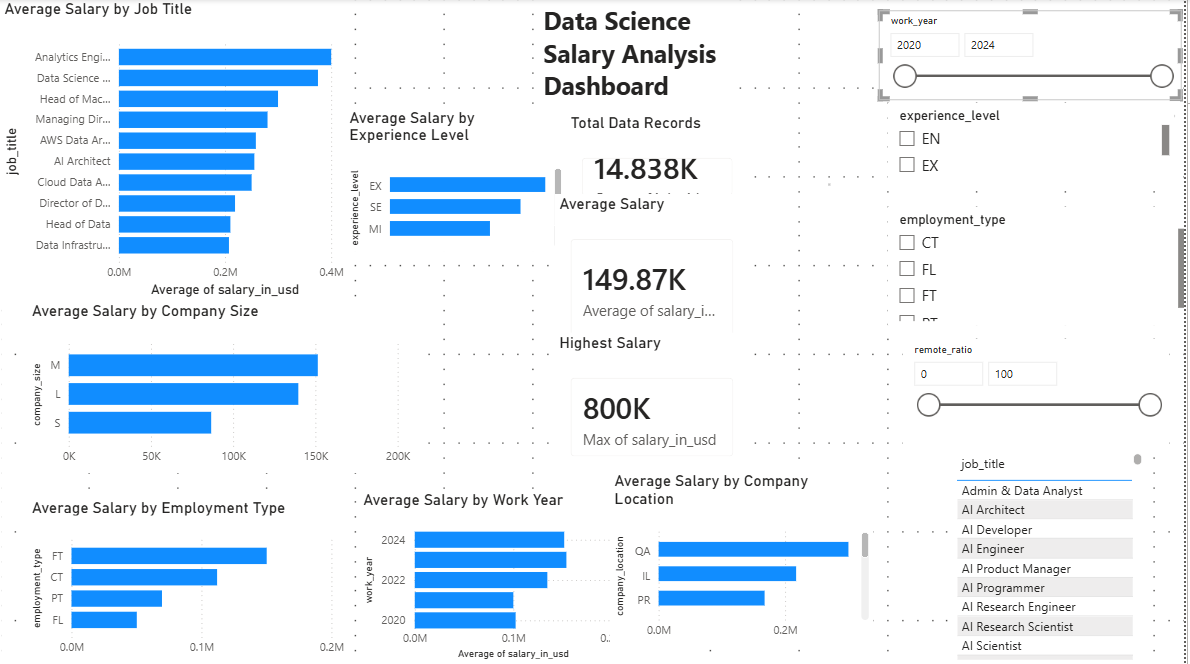

This screenshot's page, from the dashboard's own definition file:
{"tool":"powerbi","page":{"name":"Page 1","canvas":[1280,720],"ordinal":0},"visuals":[{"type":"clusteredBarChart","title":"Average Salary by Job Title","fields":{"Category":["DataScience_salaries_2024.job_title"],"Y":["Avg(DataScience_salaries_2024.salary_in_usd)"]},"box":[0,0,377.5,327.5],"z":0},{"type":"clusteredBarChart","title":"Average Salary by Experience Level","fields":{"Category":["DataScience_salaries_2024.experience_level"],"Y":["Avg(DataScience_salaries_2024.salary_in_usd)"]},"box":[372.5,117,239.4,156],"z":1000},{"type":"clusteredBarChart","title":"Average Salary by Company Size","fields":{"Category":["DataScience_salaries_2024 (2).company_size"],"Y":["Avg(DataScience_salaries_2024 (2).salary_in_usd)"]},"box":[30,327.5,419.6,185.6],"z":2000},{"type":"clusteredBarChart","title":"Average Salary by Work Year","fields":{"Category":["DataScience_salaries_2024 (2).work_year"],"Y":["Avg(DataScience_salaries_2024 (2).salary_in_usd)"]},"box":[388.7,531.2,293.2,188.3],"z":3000},{"type":"clusteredBarChart","title":"Average Salary by Employment Type","fields":{"Category":["DataScience_salaries_2024 (2).employment_type"],"Y":["Avg(DataScience_salaries_2024 (2).salary_in_usd)"]},"box":[30,540,348,180],"z":4000},{"type":"clusteredBarChart","title":"Average Salary by Company Location","fields":{"Category":["DataScience_salaries_2024 (2).company_location"],"Y":["Avg(DataScience_salaries_2024 (2).salary_in_usd)"]},"box":[660.3,511,285.1,189.6],"z":5000},{"type":"cardVisual","title":"Total Data Records","fields":{"Data":["CountNonNull(DataScience_salaries_2024 (2).job_title)"]},"box":[612.5,122.5,197.5,107.5],"z":6000},{"type":"cardVisual","title":"Average Salary","fields":{"Data":["Avg(DataScience_salaries_2024 (2).salary_in_usd)"]},"box":[600,211.2,210,172.5],"z":7000},{"type":"cardVisual","title":"Highest Salary","fields":{"Data":["Max(DataScience_salaries_2024 (2).salary_in_usd)"]},"box":[599.8,360.4,210,151.2],"z":8000},{"type":"textbox","box":[891.2,195,12.5,12.5],"z":9000},{"type":"textbox","box":[582.5,0,207.5,122.5],"z":10000},{"type":"slicer","fields":{"Values":["DataScience_salaries_2024 (2).work_year"]},"box":[950.8,12.1,327.5,97.5],"z":11000},{"type":"slicer","fields":{"Values":["DataScience_salaries_2024 (2).experience_level"]},"box":[960,112,310,91.2],"z":12000},{"type":"slicer","fields":{"Values":["DataScience_salaries_2024 (2).employment_type"]},"box":[960,224,327.5,128.8],"z":13000},{"type":"slicer","fields":{"Values":["DataScience_salaries_2024 (2).remote_ratio"]},"box":[976,368,289.1,113],"z":14000},{"type":"tableEx","fields":{"Values":["DataScience_salaries_2024 (2).job_title"]},"box":[1028.8,486.8,211.1,232.7],"z":15000}]}

Visuals, with their boxes in screenshot pixels (x1, y1, x2, y2), scaled from the page's 1280x720 canvas onto the 1190x664 screenshot:
"Average Salary by Job Title" clusteredBarChart: [x1=0, y1=0, x2=351, y2=302]
"Average Salary by Experience Level" clusteredBarChart: [x1=346, y1=108, x2=569, y2=252]
"Average Salary by Company Size" clusteredBarChart: [x1=28, y1=302, x2=418, y2=473]
"Average Salary by Work Year" clusteredBarChart: [x1=361, y1=490, x2=634, y2=663]
"Average Salary by Employment Type" clusteredBarChart: [x1=28, y1=498, x2=351, y2=663]
"Average Salary by Company Location" clusteredBarChart: [x1=614, y1=471, x2=879, y2=646]
"Total Data Records" cardVisual: [x1=569, y1=113, x2=753, y2=212]
"Average Salary" cardVisual: [x1=558, y1=195, x2=753, y2=354]
"Highest Salary" cardVisual: [x1=558, y1=332, x2=753, y2=472]
textbox: [x1=829, y1=180, x2=840, y2=191]
textbox: [x1=542, y1=0, x2=734, y2=113]
slicer - DataScience_salaries_2024 (2).work_year: [x1=884, y1=11, x2=1188, y2=101]
slicer - DataScience_salaries_2024 (2).experience_level: [x1=892, y1=103, x2=1181, y2=187]
slicer - DataScience_salaries_2024 (2).employment_type: [x1=892, y1=207, x2=1189, y2=325]
slicer - DataScience_salaries_2024 (2).remote_ratio: [x1=907, y1=339, x2=1176, y2=444]
tableEx - DataScience_salaries_2024 (2).job_title: [x1=956, y1=449, x2=1153, y2=663]
